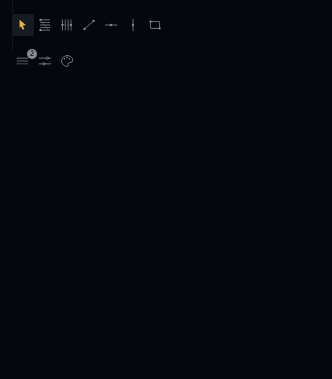
Scenario: 对象树多选(第 3 步) › 锁定后对象移出选中集,批量栏回到无选中态
Click the button named "对象树" at [23, 61], box left=12, top=50, right=34, bottom=72
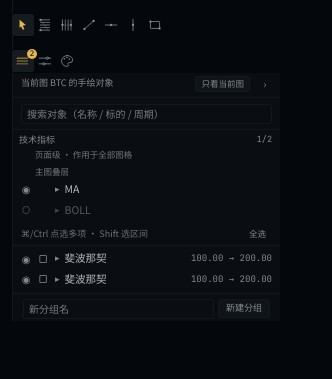
Click the 3rd element with class "kf-draw-row" at [86, 258], box left=13, top=248, right=280, bottom=269
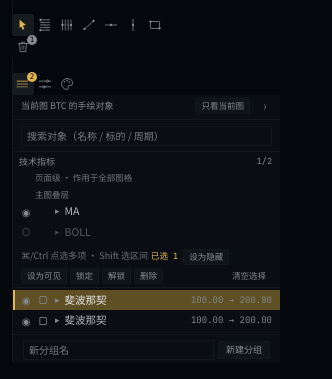
Click the 4th element with class "kf-draw-row" at [86, 320], box left=13, top=310, right=280, bottom=331
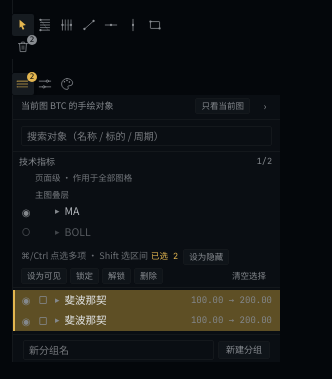
Click the button "锁定" at [84, 276], box left=70, top=268, right=99, bottom=284
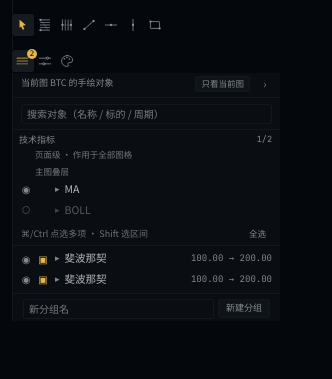
Check: the text with test id "kf-draw-batch-count" is gone
